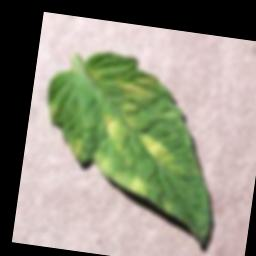Leaf_Mold: (86, 150, 155, 198), (132, 131, 184, 173), (120, 71, 159, 106), (97, 113, 131, 152)
